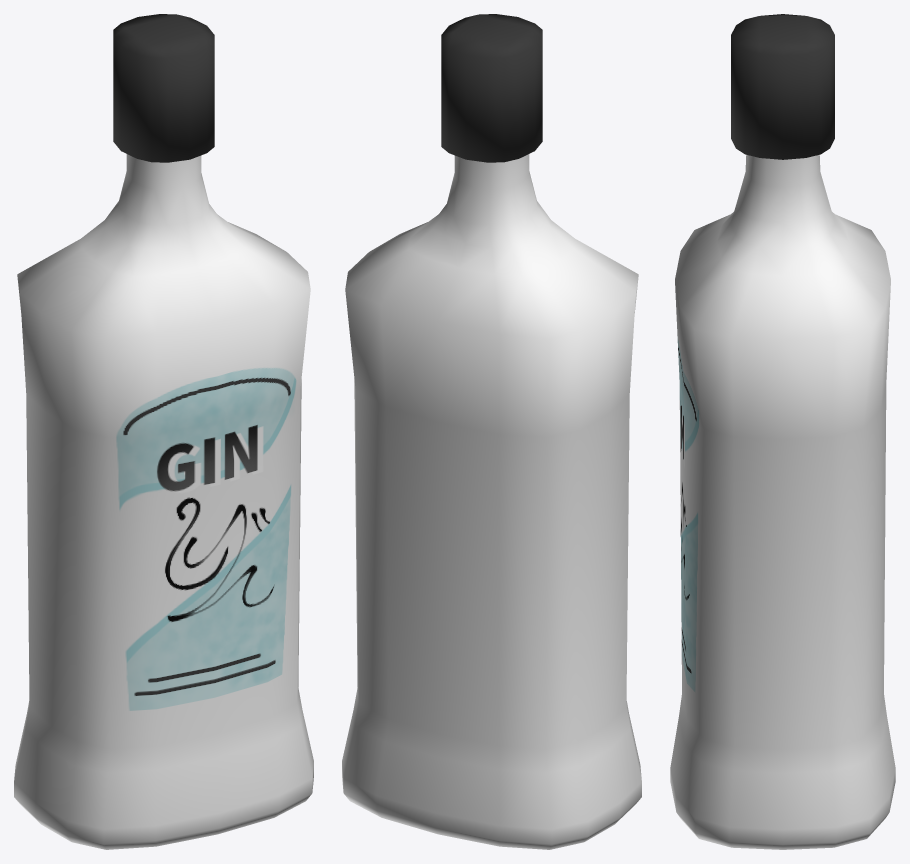
Rendered from Gin.obj.
3 renders of one model, left to right at view 1: azimuth 30°, elevation 25°; view 2: azimuth 150°, elevation 25°; view 3: azimuth 270°, elevation 25°, orthographic.
Parts seen in each view (by area): view 1: gin; view 2: gin; view 3: gin.
Part boxes in pixels (left/top/right/bottom): gin: left=14, top=14, right=313, bottom=849; gin: left=342, top=14, right=641, bottom=849; gin: left=670, top=14, right=895, bottom=849.
Size of the model in its own units: 0.3269 by 0.9322 by 0.2498.
